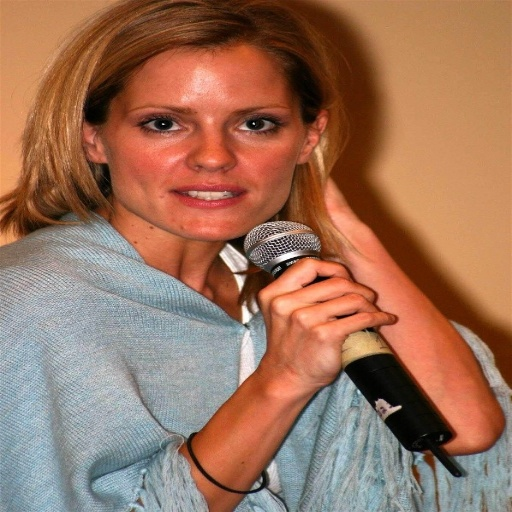hand: (184, 262, 429, 476), (322, 174, 358, 225)
